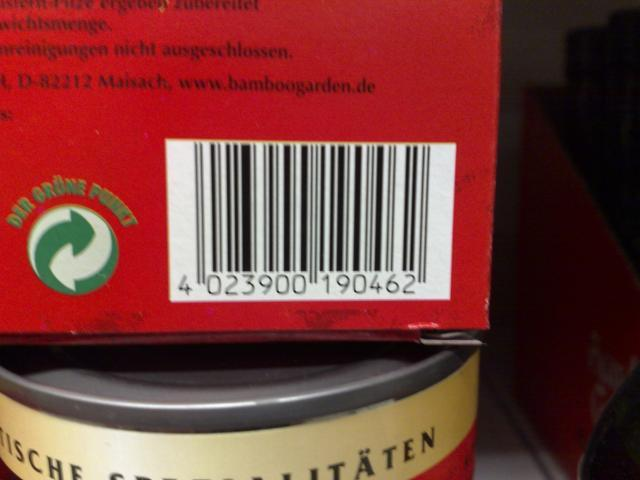Barcode: (171, 140, 434, 303)
